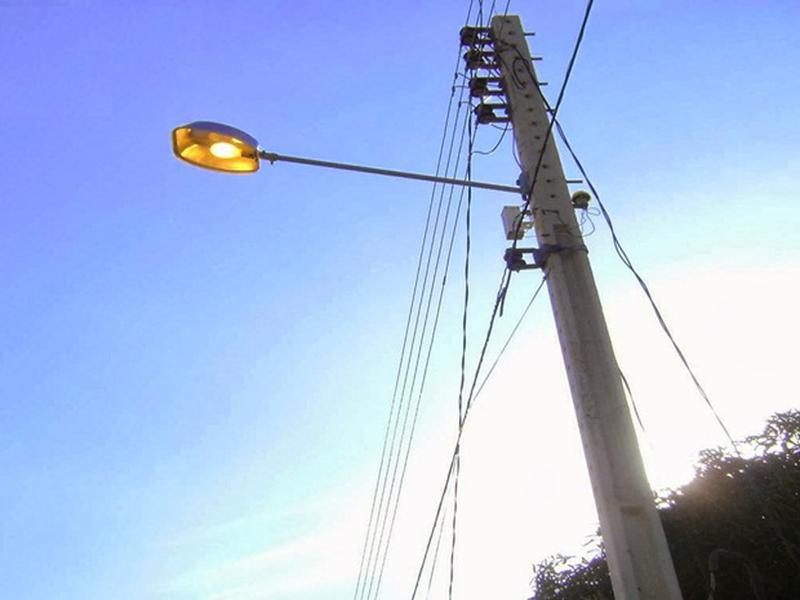IP: (163, 102, 545, 208)
